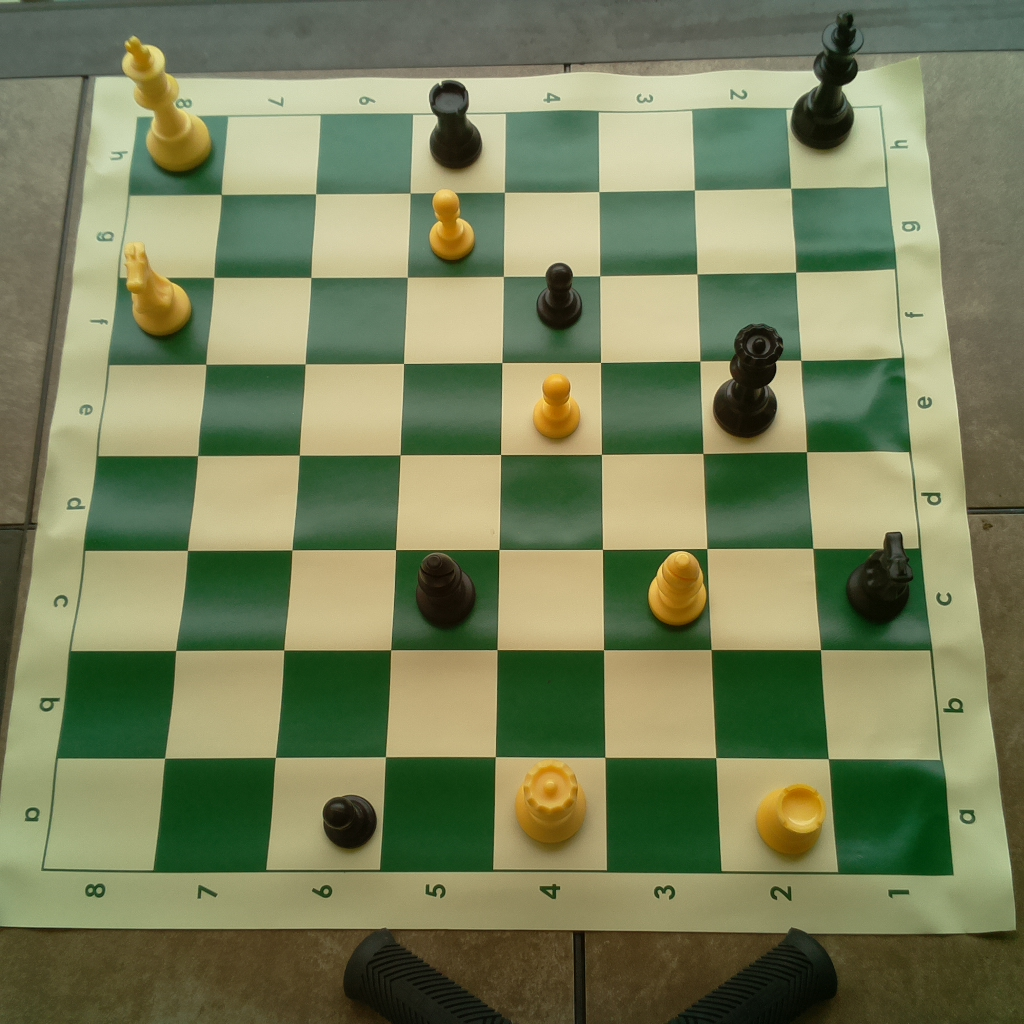black_bishop: (411, 548, 481, 632)
black_king: (783, 10, 870, 153)
black_knight: (846, 526, 918, 625)
black_pawn: (319, 788, 383, 854), (534, 257, 586, 331)
black_queen: (706, 322, 783, 440)
black_rook: (424, 77, 484, 173)
file_a: (41, 758, 955, 874)
file_b: (54, 651, 942, 758)
file_c: (66, 552, 932, 653)
file_d: (83, 453, 923, 549)
file_e: (98, 361, 911, 454)
file_f: (111, 270, 903, 360)
file_g: (119, 187, 894, 279)
file_h: (128, 105, 888, 199)
outline: (40, 106, 953, 874)
rank_1: (788, 104, 955, 877)
rank_2: (693, 108, 837, 871)
rank_3: (598, 112, 723, 874)
rank_4: (492, 109, 608, 869)
rank_5: (380, 112, 505, 873)
rank_6: (264, 112, 412, 874)
rank_7: (154, 117, 324, 873)
rank_8: (40, 115, 229, 871)
white_king: (114, 36, 214, 171)
white_knight: (114, 241, 194, 336)
white_pawn: (424, 191, 480, 261), (532, 371, 583, 441)
white_queen: (510, 756, 592, 848)
white_rook: (750, 778, 829, 860)
